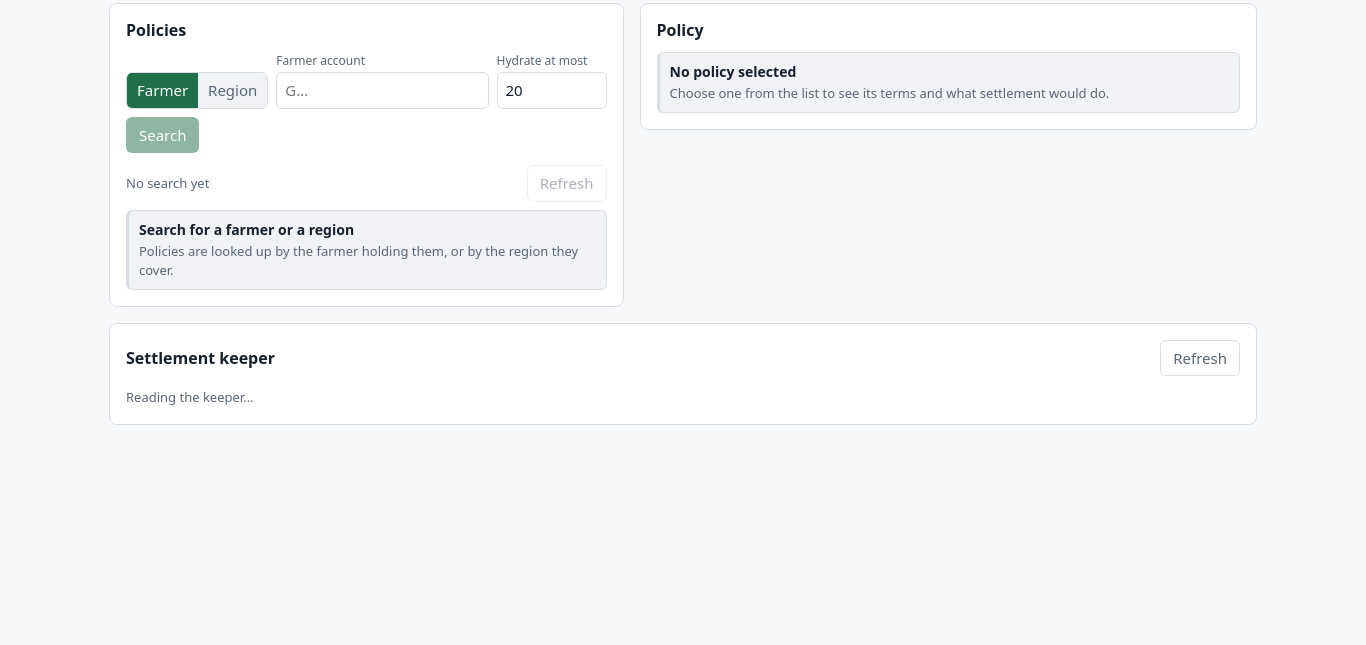
Test: one policy › submits a settlement and reports what the chain did
Type "GBZX" into the field labelled "Farmer account".
click(382, 90); type("GBZX")  # box top-left (276, 72), bottom-right (488, 108)
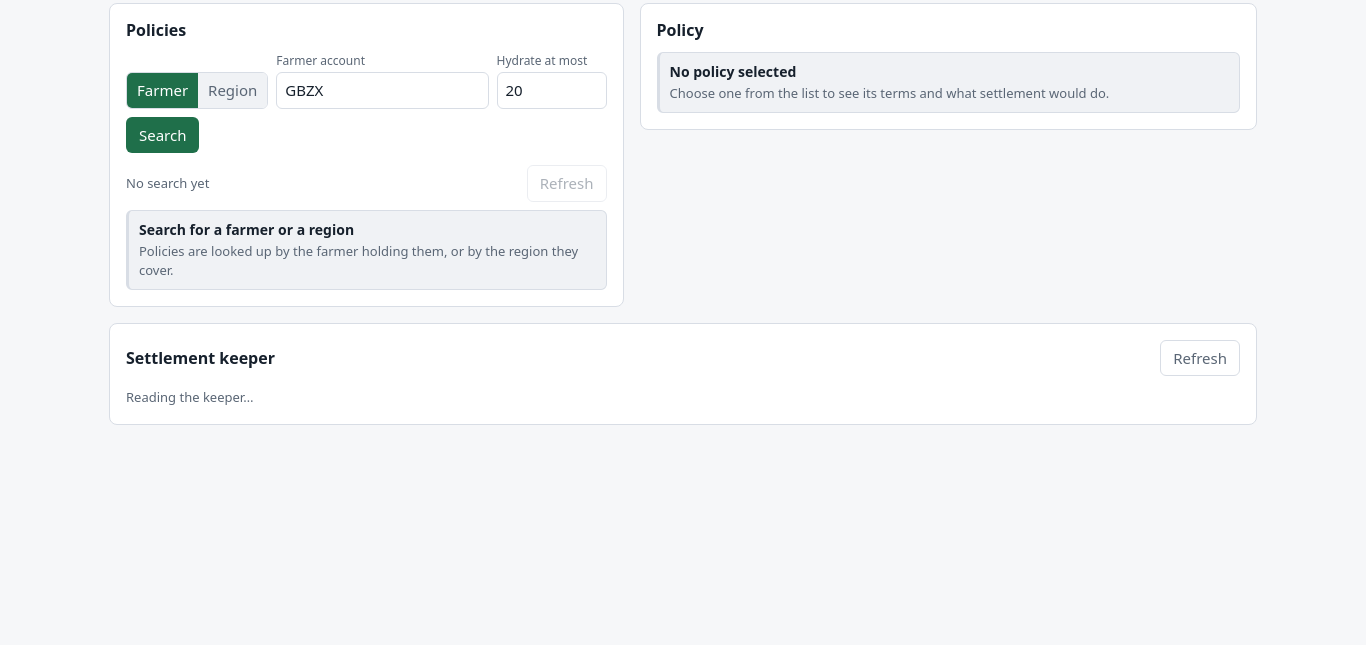
Click the button "Search".
click(163, 135)  # box top-left (126, 116), bottom-right (200, 153)
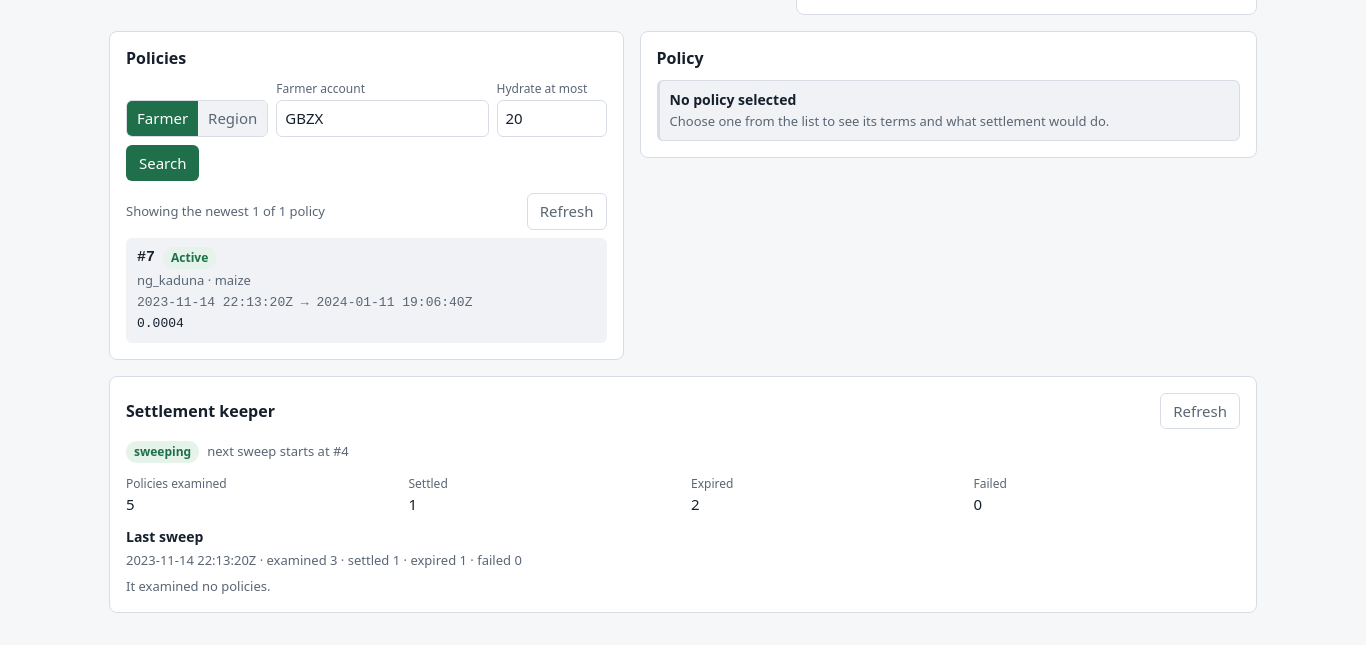
Click the button "#7".
click(190, 258)  # box top-left (126, 238), bottom-right (606, 342)
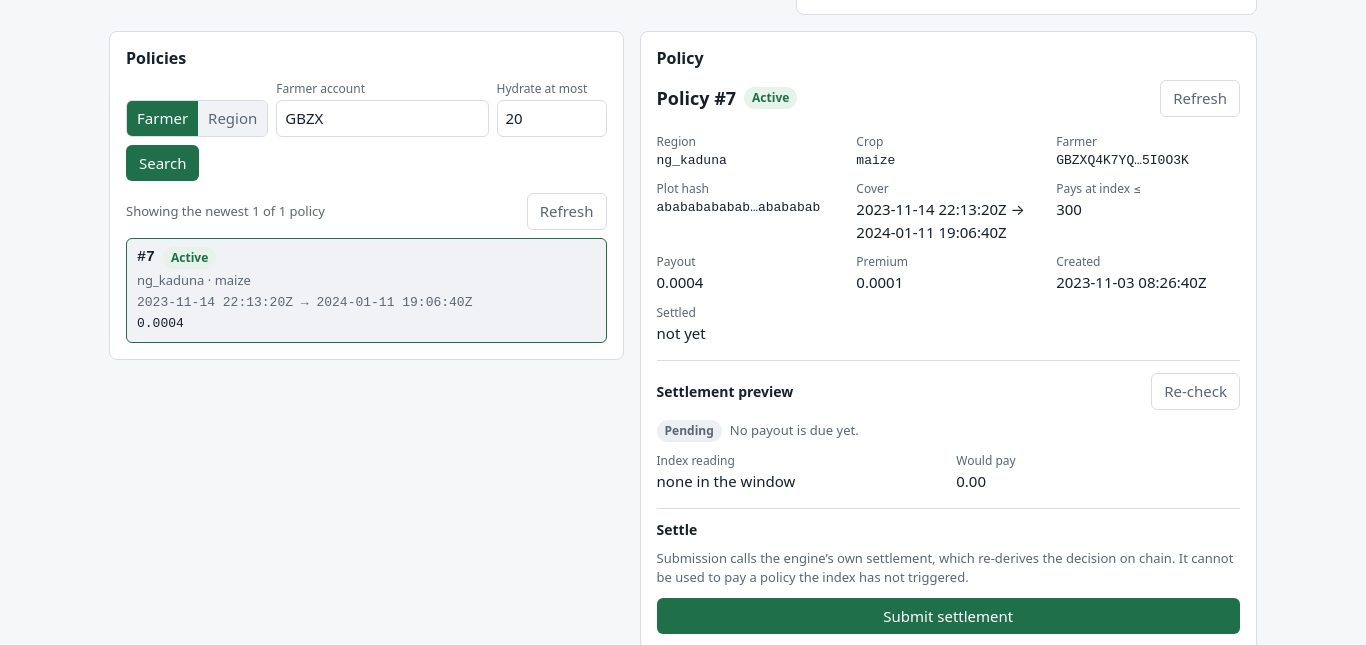
Click the button "Submit settlement".
click(948, 616)  # box top-left (656, 598), bottom-right (1240, 634)
(page scrolled)
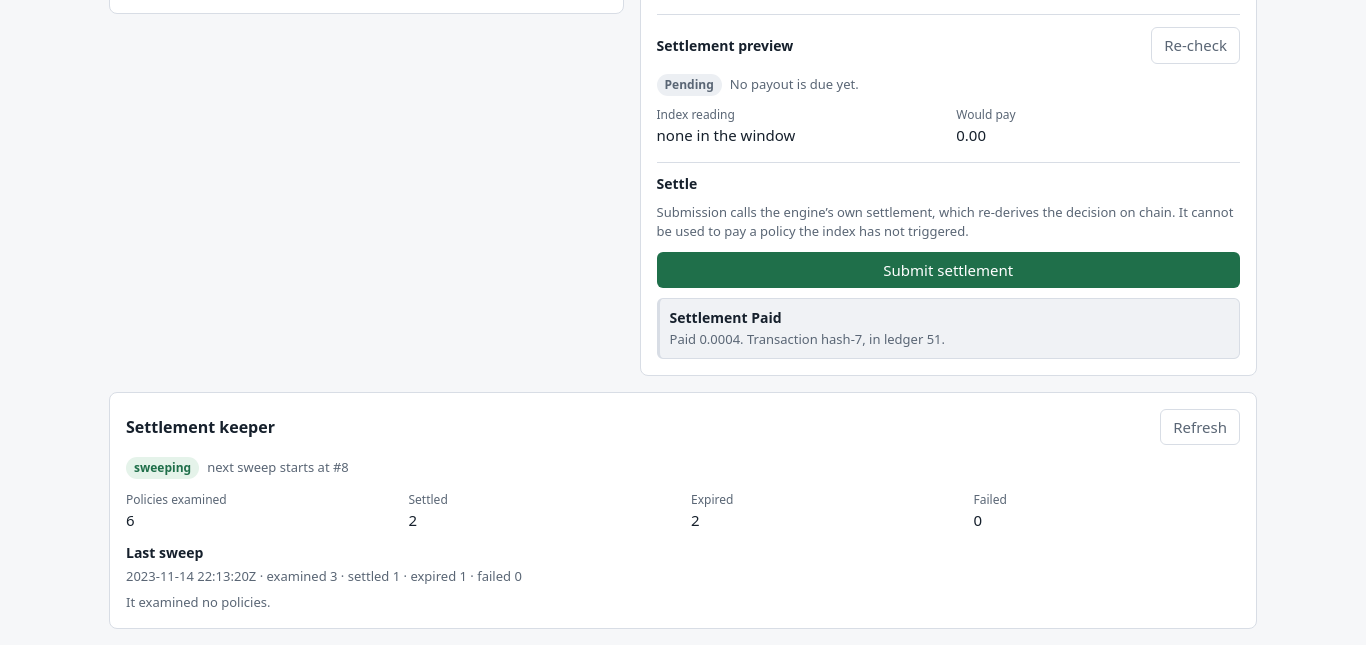
expect the text "Settlement Paid" is shown: met, box top-left (670, 308), bottom-right (782, 327)
expect the text "Paid 0.0004. Transaction hash-7, in ledger 51." is shown: met, box top-left (670, 330), bottom-right (945, 348)
expect the text "next sweep starts at #8" is shown: met, box top-left (207, 458), bottom-right (349, 478)
